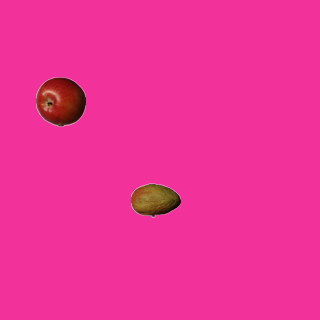Apple Braeburn: (35, 76, 85, 126)
Papaya: (130, 175, 180, 225)
